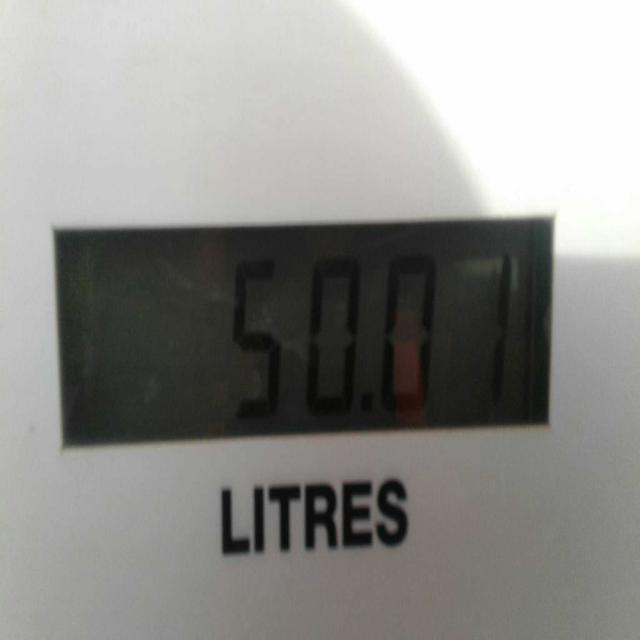.: (353, 374, 379, 431)
0: (296, 257, 368, 436), (372, 254, 445, 421)
1: (224, 247, 297, 430), (460, 238, 524, 402)
